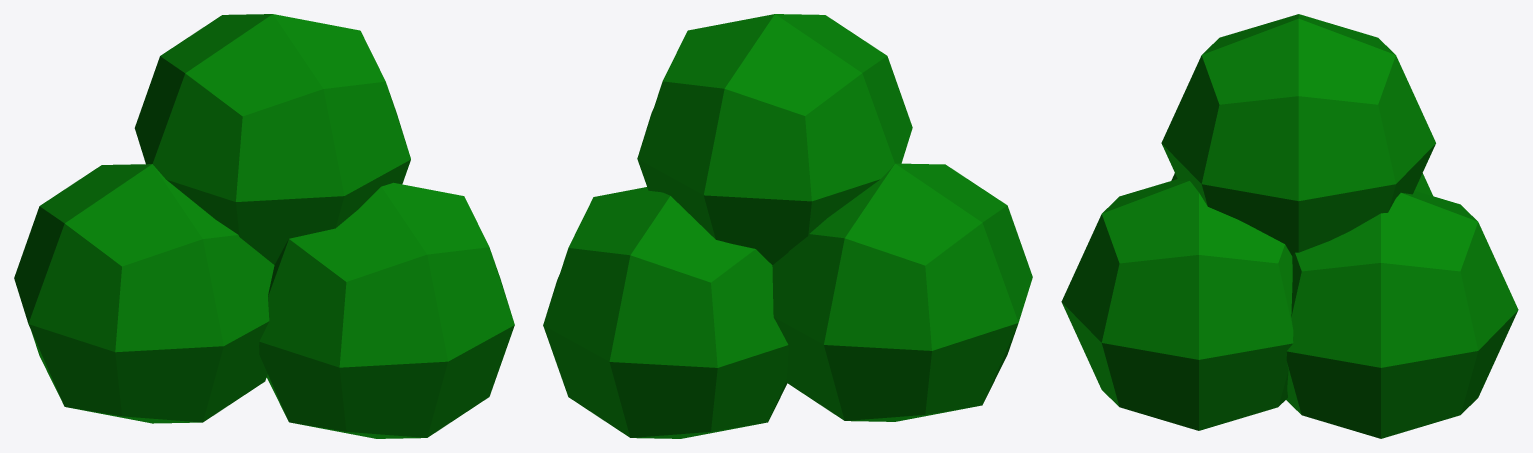
File: Bush1.fbx
The picture shows the model from 3 angles, left to right: view 1: azimuth 30°, elevation 25°; view 2: azimuth 150°, elevation 25°; view 3: azimuth 270°, elevation 25°; orthographic projection. The views are drawn at different scales.
Visible parts, largest first — view 1: Cube; view 2: Cube; view 3: Cube.
Part boxes in pixels (bbox=[...]): Cube: bbox=[14, 14, 514, 438]; Cube: bbox=[543, 14, 1032, 438]; Cube: bbox=[1061, 14, 1518, 438].
Bounding box in the file's own units: 587 × 545 × 576.
